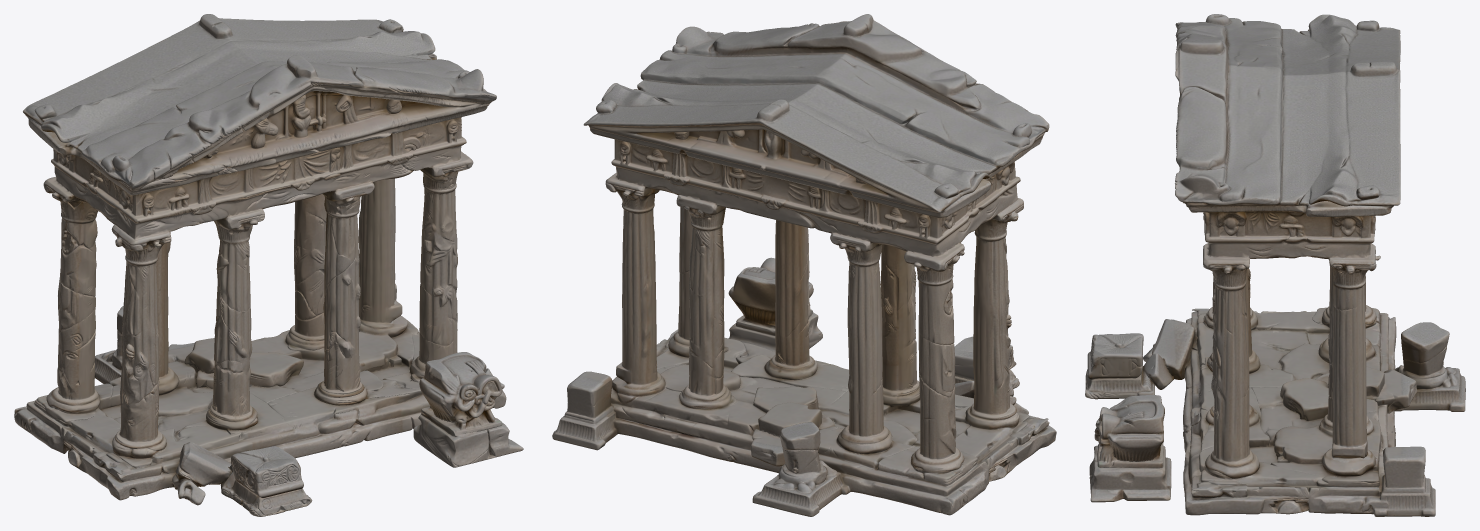
File: 3D+model+of+a+greek+gate.fbx
3 renders of one model, left to right at view 1: azimuth 30°, elevation 25°; view 2: azimuth 150°, elevation 25°; view 3: azimuth 270°, elevation 25°, orthographic.
Parts seen in each view (by area): view 1: tripo_node_b5fbb3a7-93dd-4fd7-b4c0-451ce15a658c; view 2: tripo_node_b5fbb3a7-93dd-4fd7-b4c0-451ce15a658c; view 3: tripo_node_b5fbb3a7-93dd-4fd7-b4c0-451ce15a658c.
Boxes of the visible parts, left/top/right/bottom form: tripo_node_b5fbb3a7-93dd-4fd7-b4c0-451ce15a658c: left=14, top=14, right=523, bottom=516; tripo_node_b5fbb3a7-93dd-4fd7-b4c0-451ce15a658c: left=552, top=14, right=1056, bottom=516; tripo_node_b5fbb3a7-93dd-4fd7-b4c0-451ce15a658c: left=1085, top=14, right=1465, bottom=516.
Size of the model in its own units: 0.9802 by 0.9356 by 0.8387.
1 material, 1 textured.
